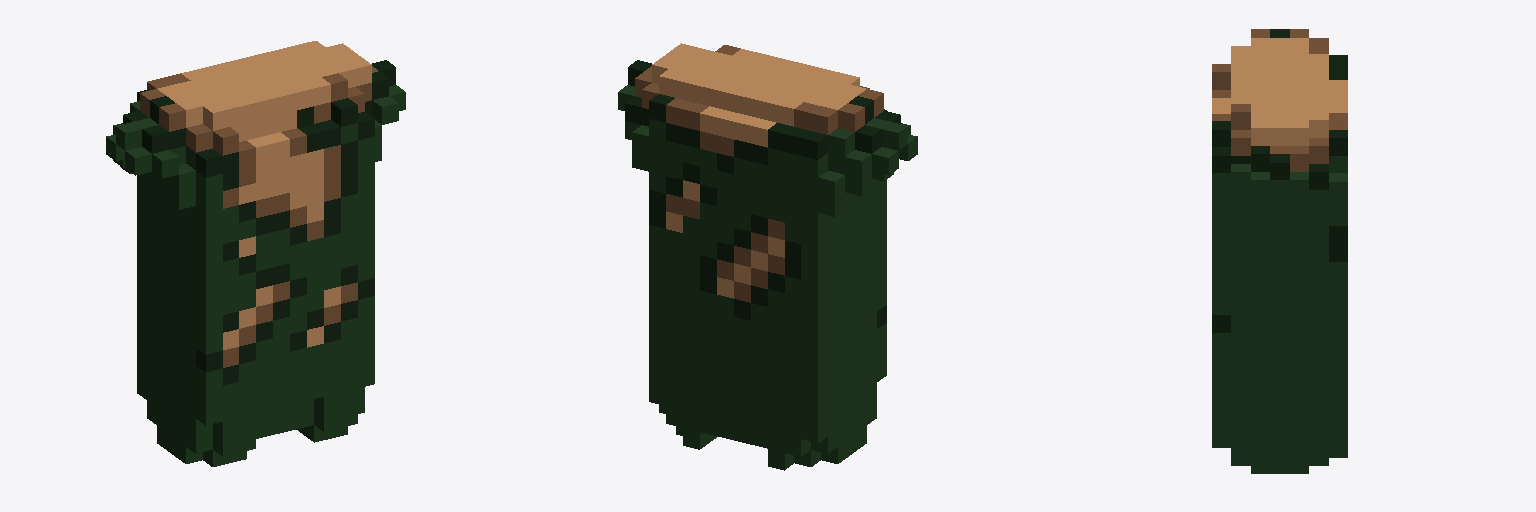
3 renders of one model, left to right at view 1: azimuth 30°, elevation 25°; view 2: azimuth 150°, elevation 25°; view 3: azimuth 270°, elevation 25°, orthographic.
Parts seen in each view (by area): view 1: object 1; view 2: object 1; view 3: object 1.
Boxes of the visible parts, x1=… form: object 1: x1=106, y1=41, x2=405, y2=466; object 1: x1=618, y1=43, x2=917, y2=470; object 1: x1=1212, y1=29, x2=1347, y2=473.
Bounding box in the file's own units: 1.6 × 2 × 0.7.
Materials: 1 (1 with a texture image).